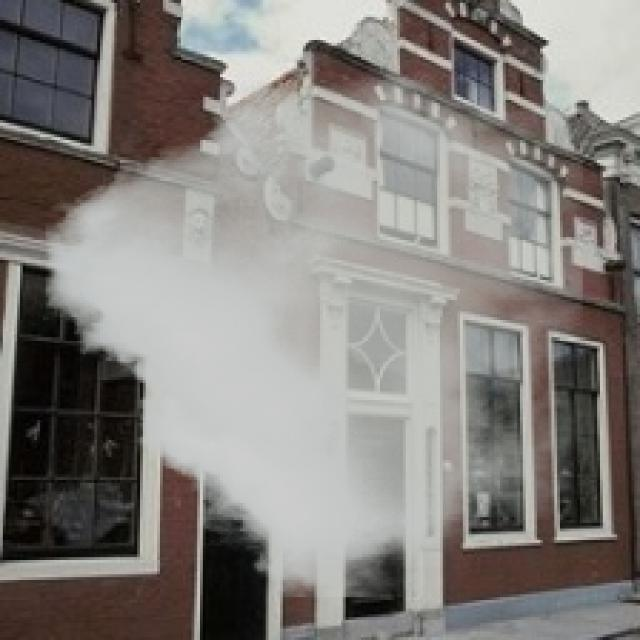Smoke: (46, 72, 583, 598)
